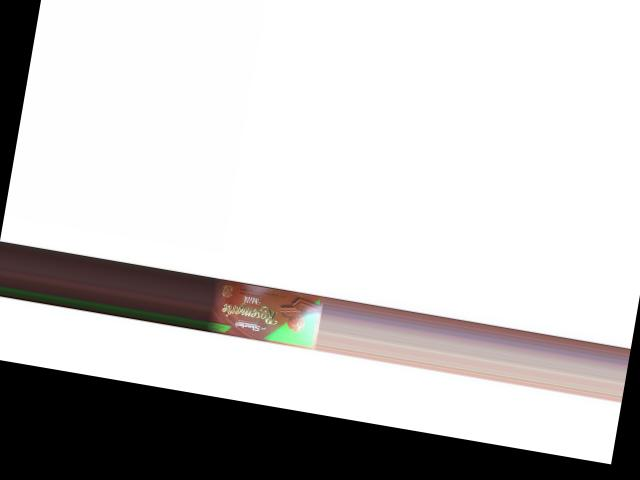chocolate: (205, 278, 322, 348)
